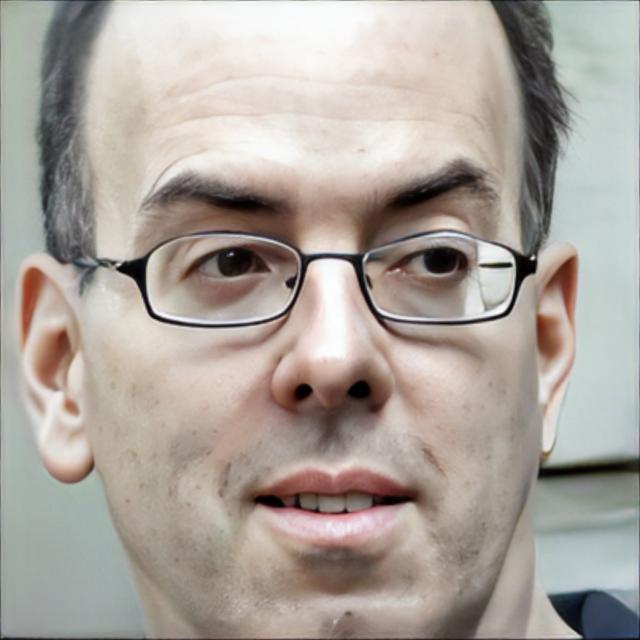surprise: (92, 0, 544, 640)
